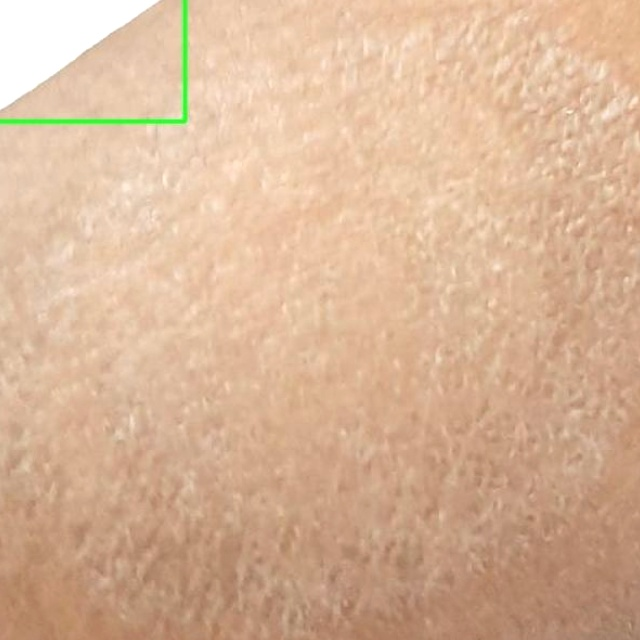Tinea Corporis: (0, 0, 186, 122)
